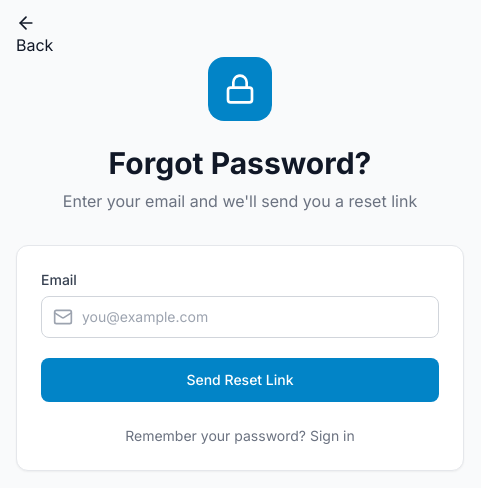
Test: ForgotPasswordPage › allows resending email from success state
Type "test@test.com" into the field labelled "Email".
click(240, 317); type("test@test.com")  # box [41, 296, 439, 338]
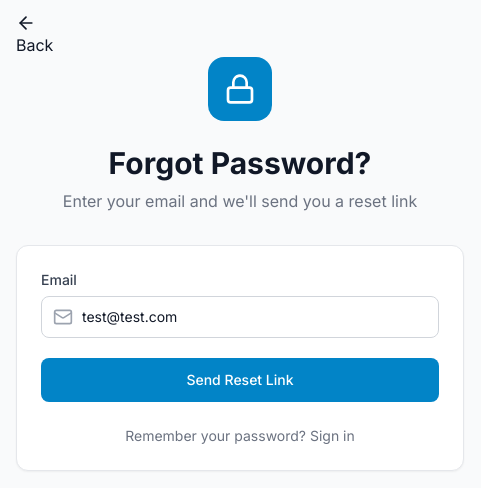
Click the button "Send Reset Link".
click(240, 380)  # box [41, 358, 439, 402]
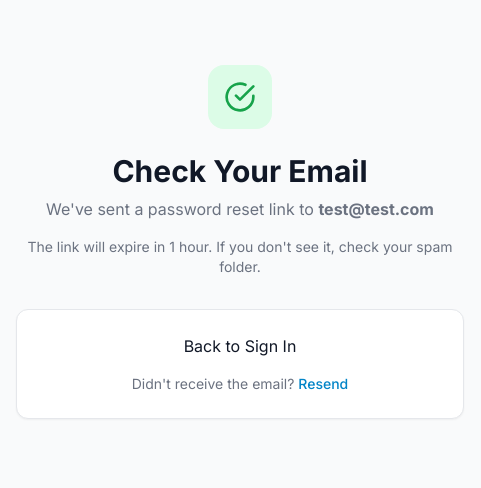
expect the heading "Check Your Email" is shown: met, box [112, 153, 368, 189]
Click the button "Resend".
click(323, 384)  # box [298, 374, 348, 394]
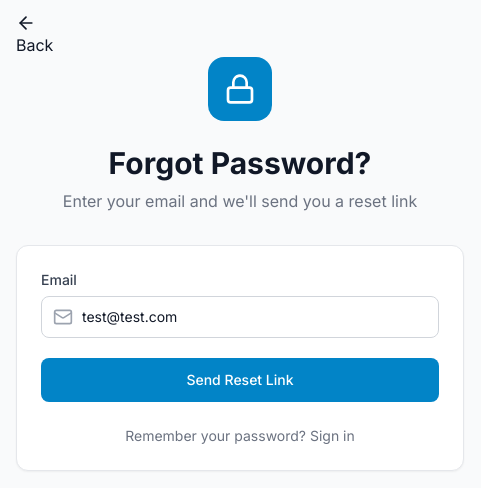
expect the heading "Forgot Password?" is shown: met, box [109, 145, 371, 181]
